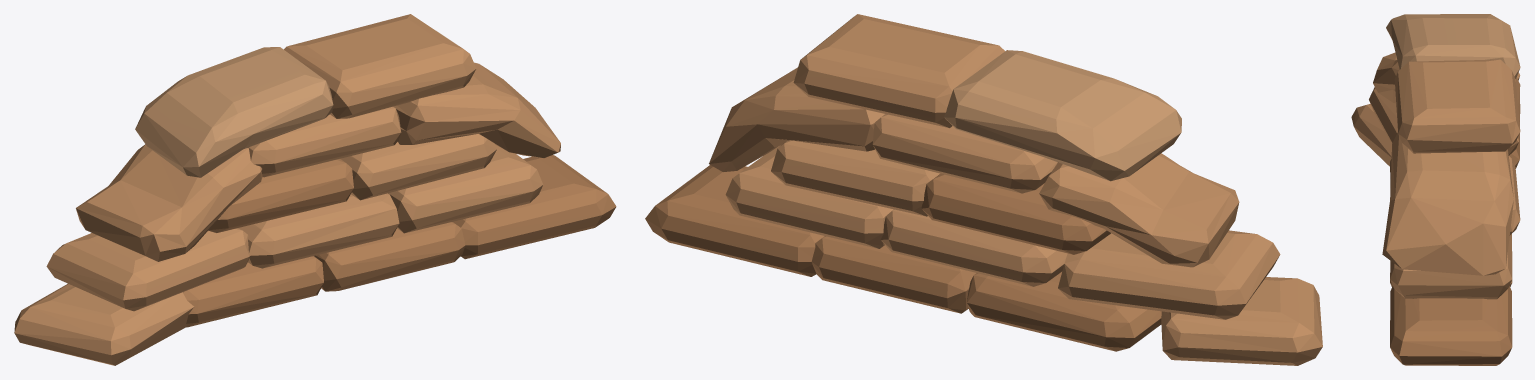
File: SM_Props_Sand_02.glb
3 views of the same model, side by side, from view 1: azimuth 30°, elevation 25°; view 2: azimuth 150°, elevation 25°; view 3: azimuth 270°, elevation 25° (orthographic). The views are drawn at different scales.
Parts seen in each view (by area): view 1: SM_Props_Sand_02; view 2: SM_Props_Sand_02; view 3: SM_Props_Sand_02.
Part boxes in pixels (x1,y1,x2,y2): SM_Props_Sand_02: (14,14,616,365); SM_Props_Sand_02: (645,14,1322,365); SM_Props_Sand_02: (1351,14,1520,365).
Bounding box in the file's own units: 2.57 × 0.9103 × 0.6995.
Materials: 1 (1 with a texture image).
